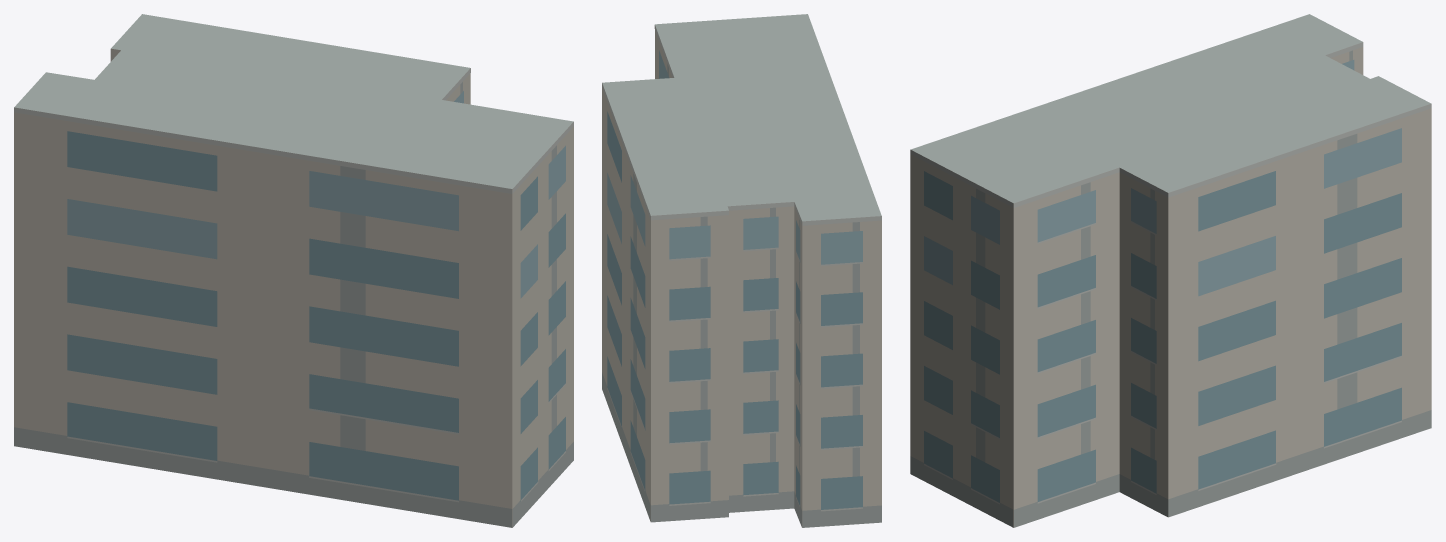
The model's file is survey-upis-32585992.glb.
3 views of the same model, side by side, from view 1: azimuth 30°, elevation 25°; view 2: azimuth 150°, elevation 25°; view 3: azimuth 270°, elevation 25° (orthographic). The views are drawn at different scales.
Parts seen in each view (by area): view 1: survey-upis-32585992.tmp; view 2: survey-upis-32585992.tmp; view 3: survey-upis-32585992.tmp.
Boxes of the visible parts, box(x1,y1,x2,y2) form: survey-upis-32585992.tmp: box(14, 14, 573, 527); survey-upis-32585992.tmp: box(602, 14, 881, 527); survey-upis-32585992.tmp: box(910, 14, 1431, 527).
Size of the model in its own units: 20.85 by 16.65 by 24.24.
